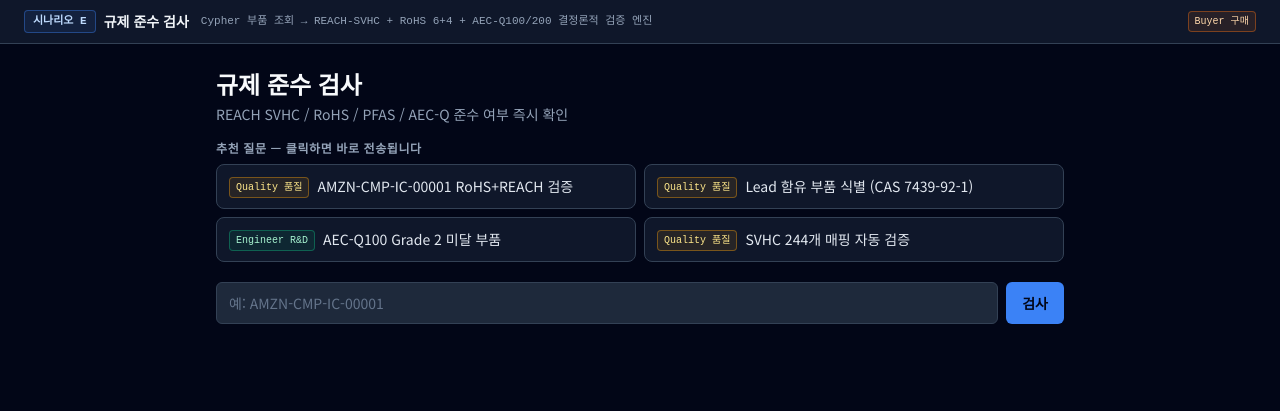
W4 — failed requests release the loading state and show an error › compliance
Type "X" into the field with placeholder "예: AMZN-CMP-IC-00001" at (607,302), box [216,282,998,324]
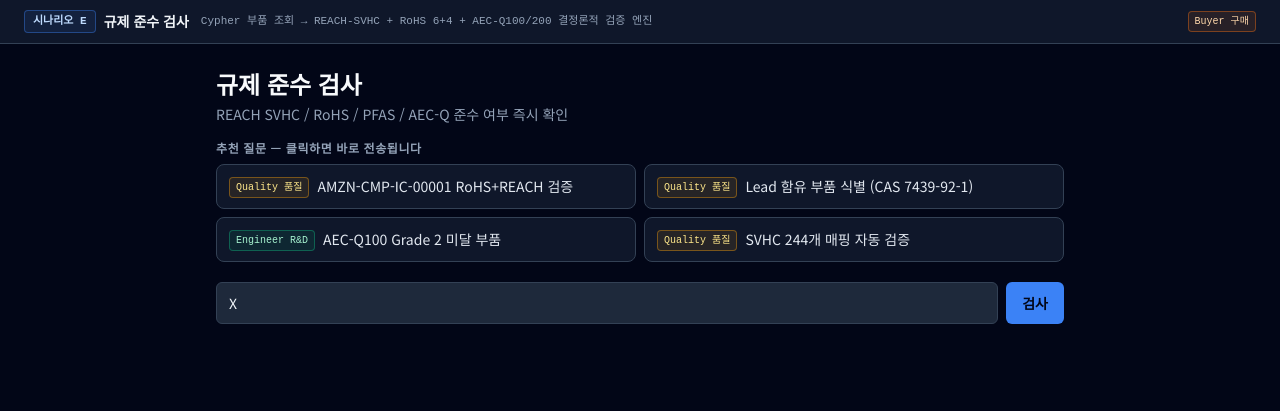
Click the button "검사" at (1035,302), box [1006,282,1064,324]
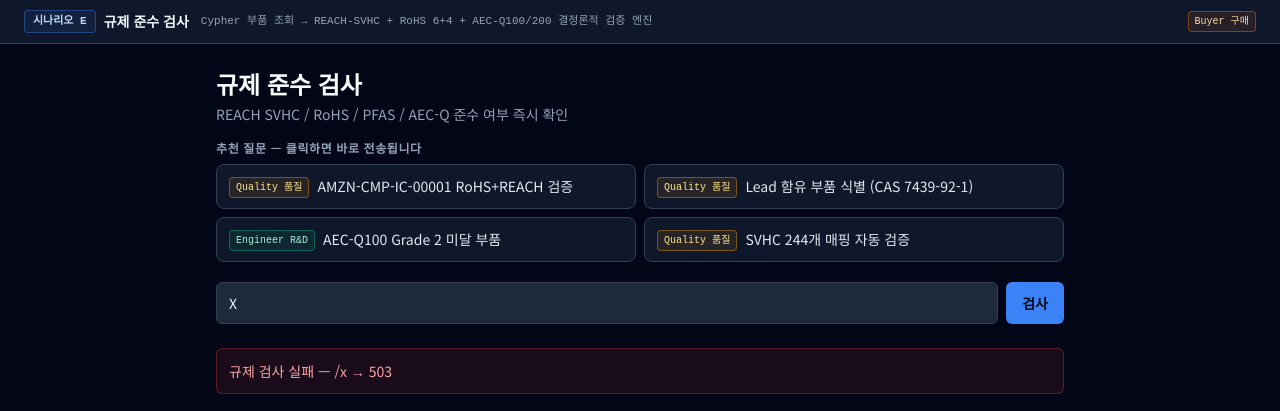
Expected: the message "규제 검사 실패 — /x → 503" is shown, [216,348,1064,394]
